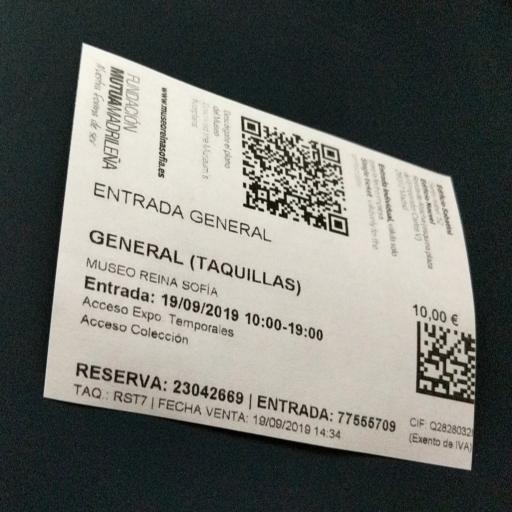paper: (38, 26, 512, 512)
